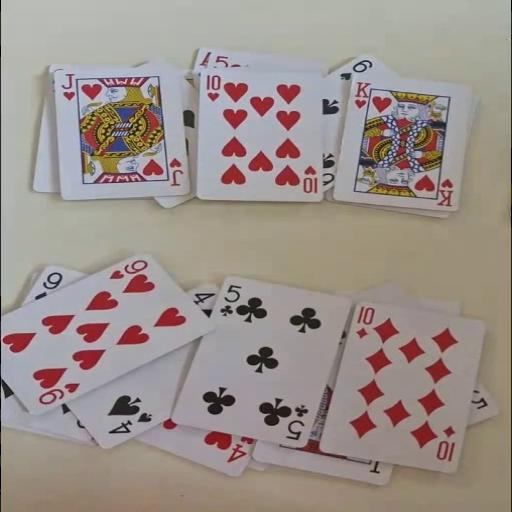10: (434, 424, 458, 462), (355, 304, 379, 340), (204, 73, 222, 103), (302, 164, 318, 194)
4: (105, 410, 154, 436), (223, 434, 254, 464)
5: (284, 402, 310, 441), (218, 282, 244, 317)
6: (336, 58, 375, 80)
9: (35, 380, 82, 406), (106, 257, 149, 281), (32, 269, 64, 301)
J: (166, 156, 184, 187), (58, 72, 76, 102)
K: (434, 176, 456, 207), (352, 80, 372, 110)
